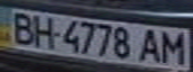4: (57, 17, 81, 53)
7: (93, 20, 115, 56), (78, 19, 96, 55)
8: (112, 24, 136, 61)
A: (136, 27, 163, 63)
B: (6, 10, 39, 46)
H: (27, 14, 57, 48)
M: (157, 28, 190, 64)
